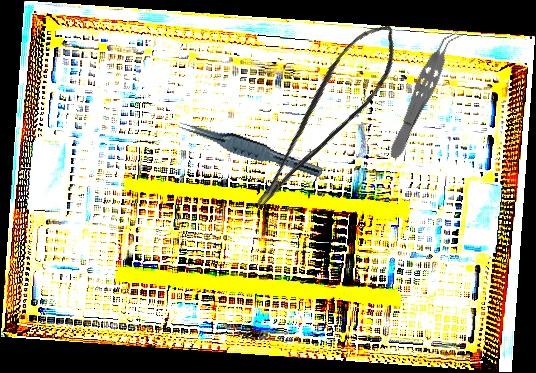Micro Scissor: (224, 11, 419, 215)
Tissue Forceps: (382, 25, 465, 163), (175, 117, 326, 179)
